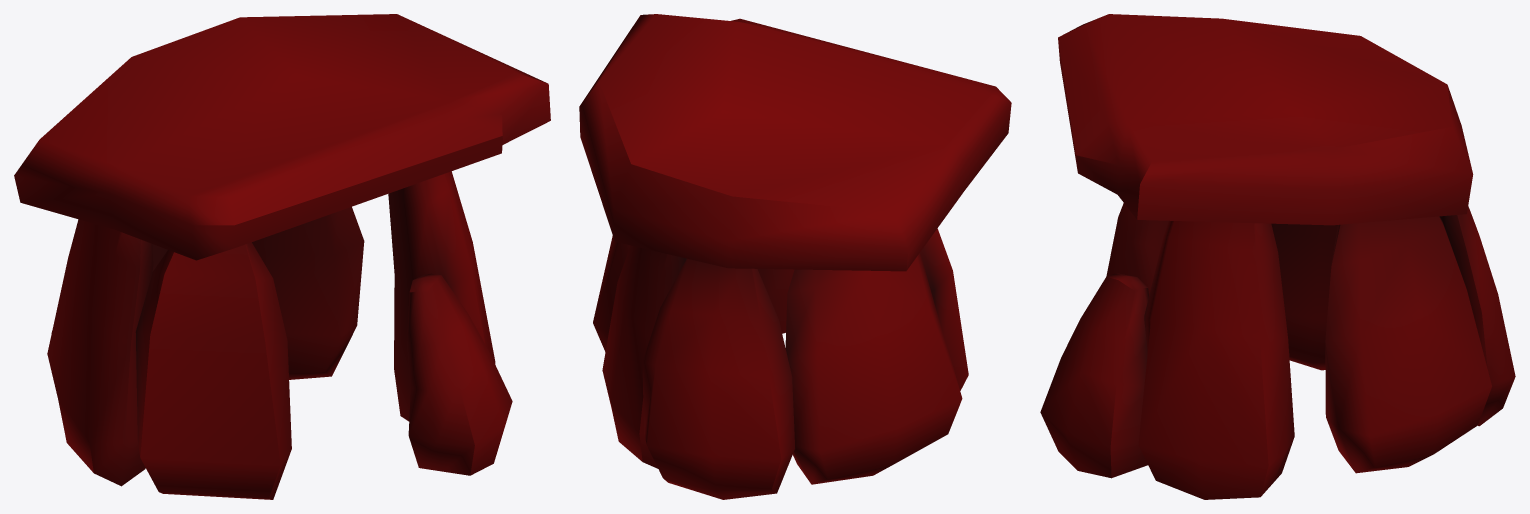
File: geology-carvedstone-dolmen_v8.fbx
3 renders of one model, left to right at view 1: azimuth 30°, elevation 25°; view 2: azimuth 150°, elevation 25°; view 3: azimuth 270°, elevation 25°, orthographic. The views are drawn at different scales.
Parts seen in each view (by area): view 1: Dolmen_v8; view 2: Dolmen_v8; view 3: Dolmen_v8.
Part boxes in pixels (left/top/right/bottom): Dolmen_v8: left=14, top=14, right=550, bottom=499; Dolmen_v8: left=579, top=14, right=1011, bottom=499; Dolmen_v8: left=1040, top=14, right=1515, bottom=499.
Size of the model in its own units: 11.57 by 9.92 by 11.64.
